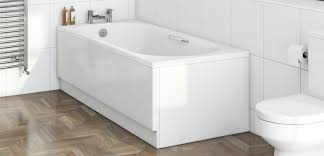bathub: (52, 17, 259, 152)
